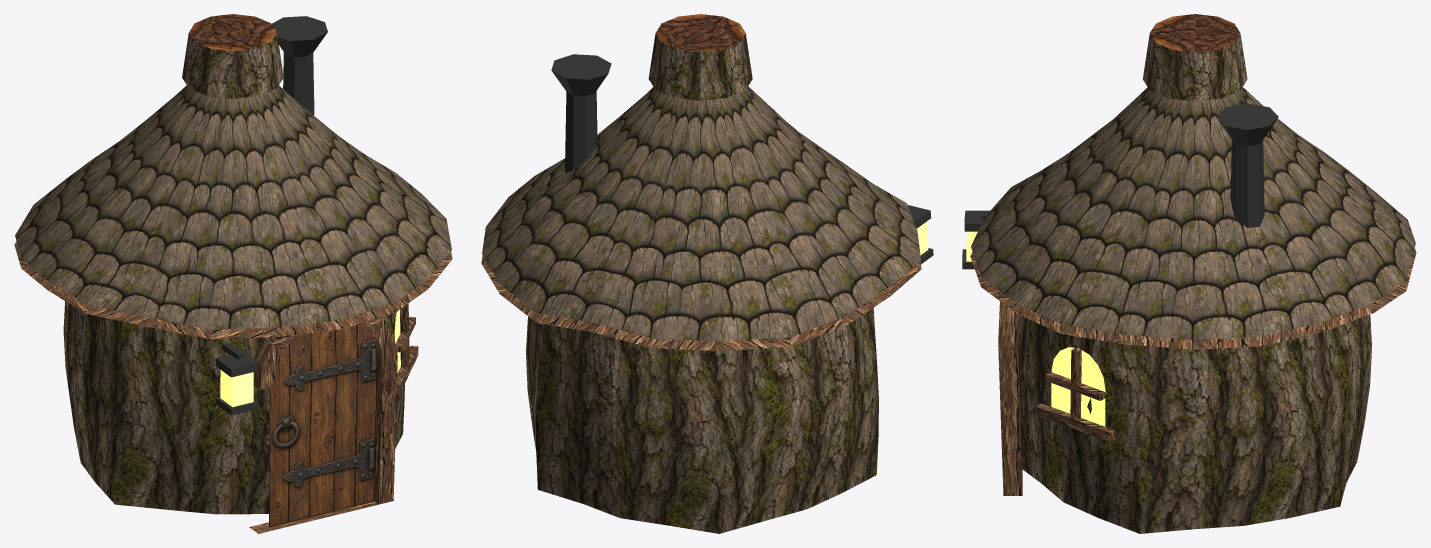
Rendered from house-mixed-02.glb.
3 views of the same model, side by side, from view 1: azimuth 30°, elevation 25°; view 2: azimuth 150°, elevation 25°; view 3: azimuth 270°, elevation 25° (orthographic). The views are drawn at different scales.
Parts seen in each view (by area): view 1: roof, walls, door, door_frame, top_stump, roof_under, chimney, top_cut, window_frame, lantern_cage, lantern_glass; view 2: roof, walls, top_stump, roof_under, chimney, top_cut; view 3: roof, walls, top_stump, roof_under, chimney, door_frame, top_cut, window_frame, window, lantern_cage.
Boxes of the visible parts, left/top/right/bottom form: roof: left=15, top=85, right=451, bottom=329; walls: left=63, top=301, right=404, bottom=514; door: left=269, top=323, right=378, bottom=527; door_frame: left=249, top=317, right=397, bottom=533; top_stump: left=182, top=33, right=283, bottom=98; roof_under: left=14, top=241, right=452, bottom=338; chimney: left=272, top=16, right=327, bottom=115; top_cut: left=189, top=14, right=276, bottom=51; window_frame: left=395, top=303, right=418, bottom=394; lantern_cage: left=215, top=351, right=258, bottom=415; lantern_glass: left=220, top=370, right=253, bottom=406; roof: left=482, top=86, right=920, bottom=341; walls: left=526, top=308, right=878, bottom=533; top_stump: left=648, top=33, right=752, bottom=100; roof_under: left=481, top=255, right=921, bottom=350; chimney: left=551, top=54, right=611, bottom=172; top_cut: left=656, top=14, right=745, bottom=51; roof: left=971, top=87, right=1415, bottom=339; walls: left=1018, top=314, right=1371, bottom=533; top_stump: left=1143, top=33, right=1247, bottom=101; roof_under: left=970, top=248, right=1416, bottom=349; chimney: left=1216, top=103, right=1278, bottom=228; door_frame: left=998, top=301, right=1022, bottom=495; top_cut: left=1150, top=14, right=1240, bottom=52; window_frame: left=1036, top=347, right=1114, bottom=442; window: left=1051, top=347, right=1105, bottom=426; lantern_cage: left=962, top=210, right=989, bottom=269.
Size of the model in its own units: 2.54 by 2.72 by 2.6.
7 materials, 5 textured.
